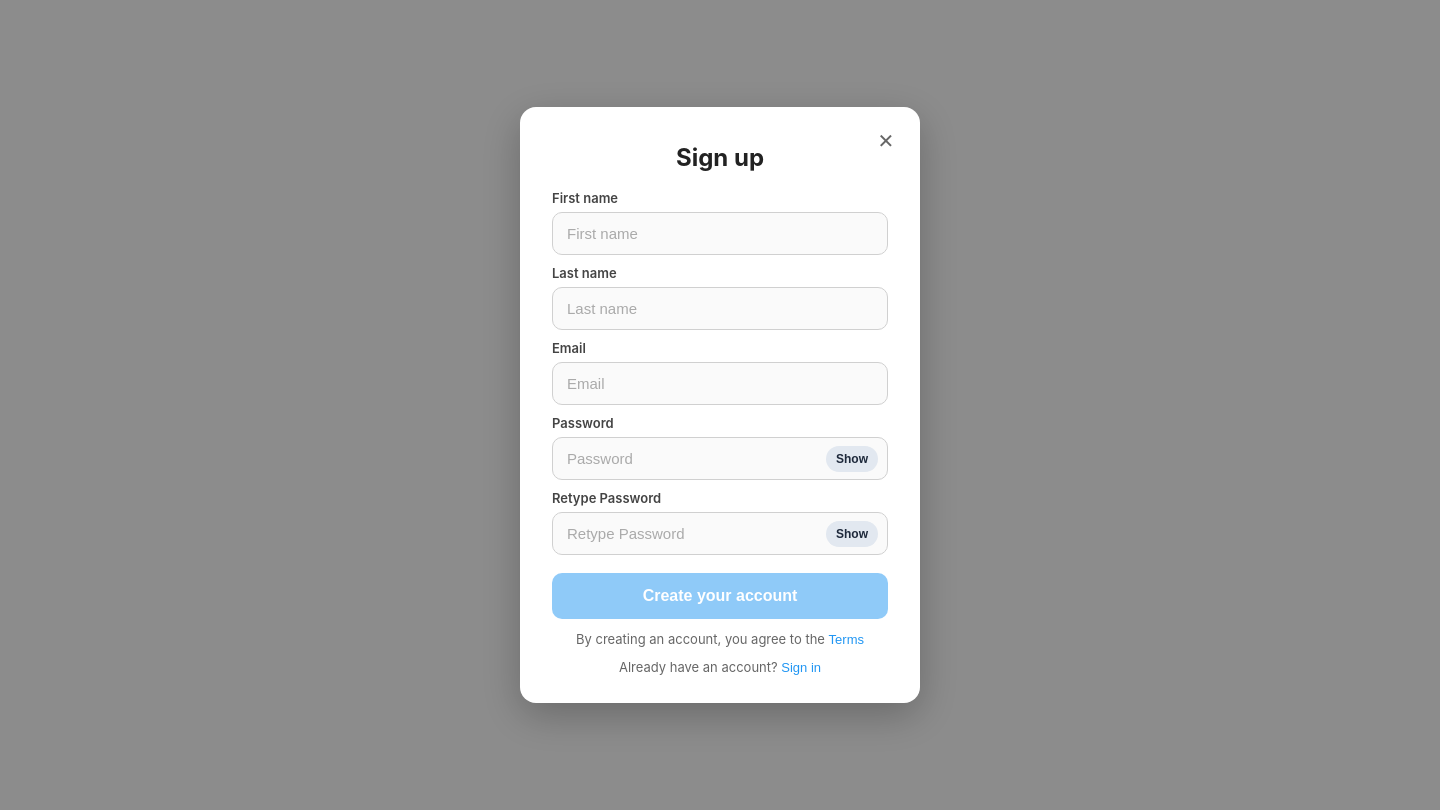
Test: SignUp Component › shows password requirements when typing
The width and height of the screenshot is (1440, 810).
In the password field labelled "Password": (720, 458) [552,437,888,480], type "a"
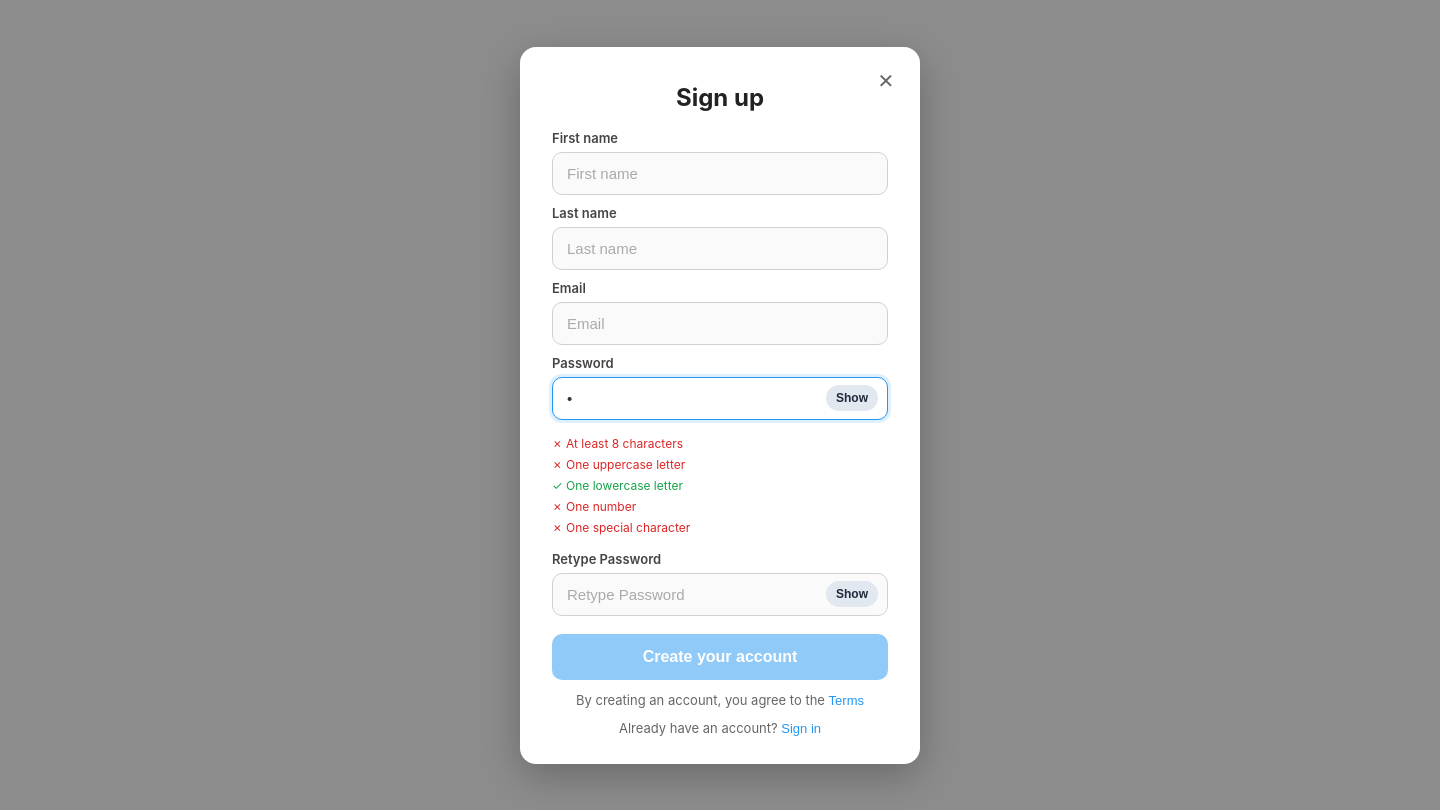
Result: the text "✗ At least 8 characters" is shown at [552,436,683,450]
Result: the text "✗ One uppercase letter" is shown at [552,456,685,472]
Result: the text "✓ One lowercase letter" is shown at [552,478,683,492]
